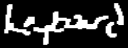keyboard: (0, 0, 128, 48)
